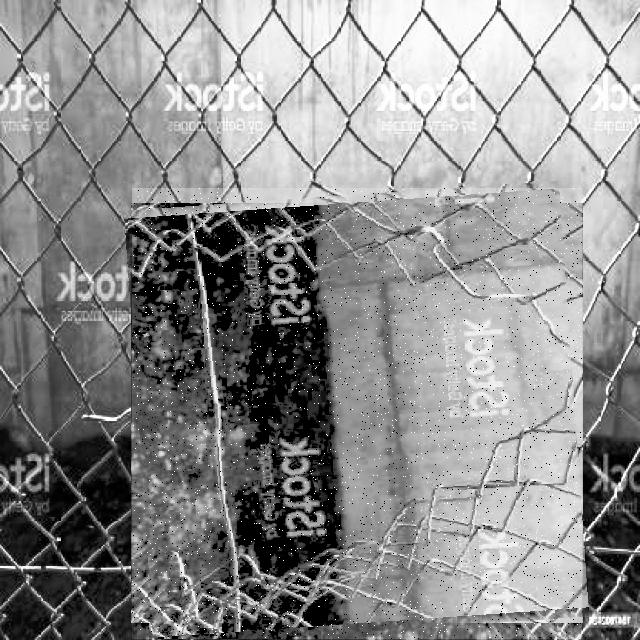anomaly-fence: (132, 188, 582, 639)
